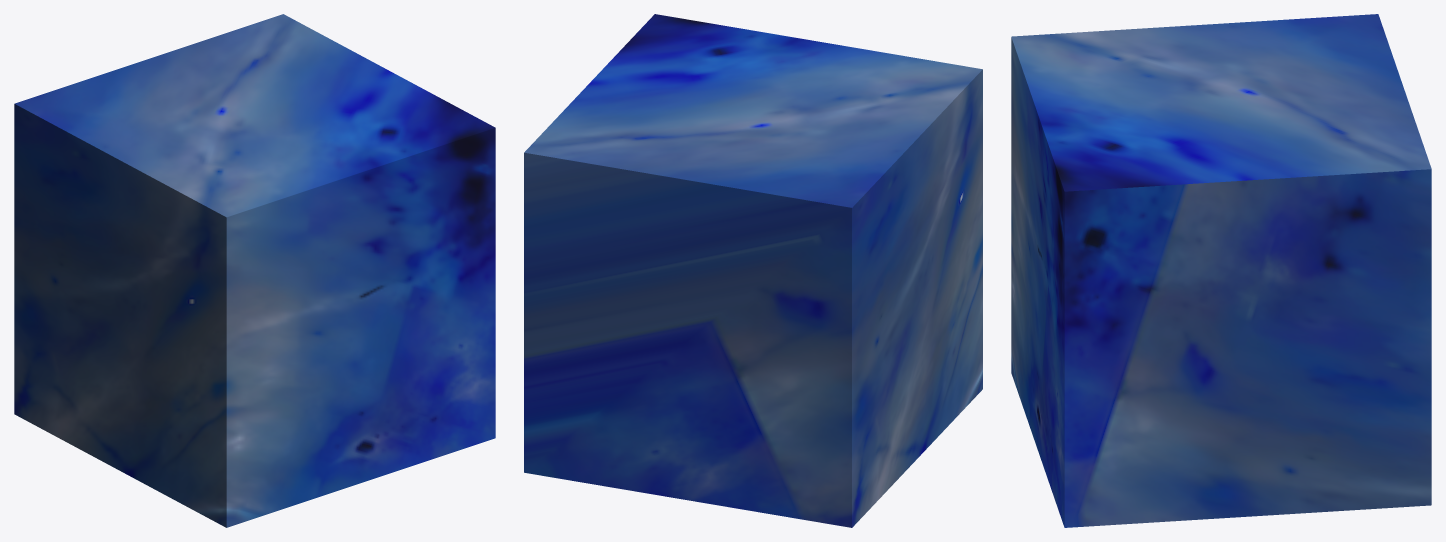
The model's file is BlueBlocks_18.gltf.
The picture shows the model from 3 angles, left to right: view 1: azimuth 30°, elevation 25°; view 2: azimuth 150°, elevation 25°; view 3: azimuth 270°, elevation 25°; orthographic projection. The views are drawn at different scales.
Parts seen in each view (by area): view 1: BlueBlocks_18; view 2: BlueBlocks_18; view 3: BlueBlocks_18.
Part boxes in pixels (left/top/right/bottom): BlueBlocks_18: left=14, top=14, right=495, bottom=527; BlueBlocks_18: left=524, top=14, right=982, bottom=527; BlueBlocks_18: left=1011, top=14, right=1431, bottom=527.
Bounding box in the file's own units: 3.98 × 3.51 × 3.98.
Materials: 1 (1 with a texture image).
